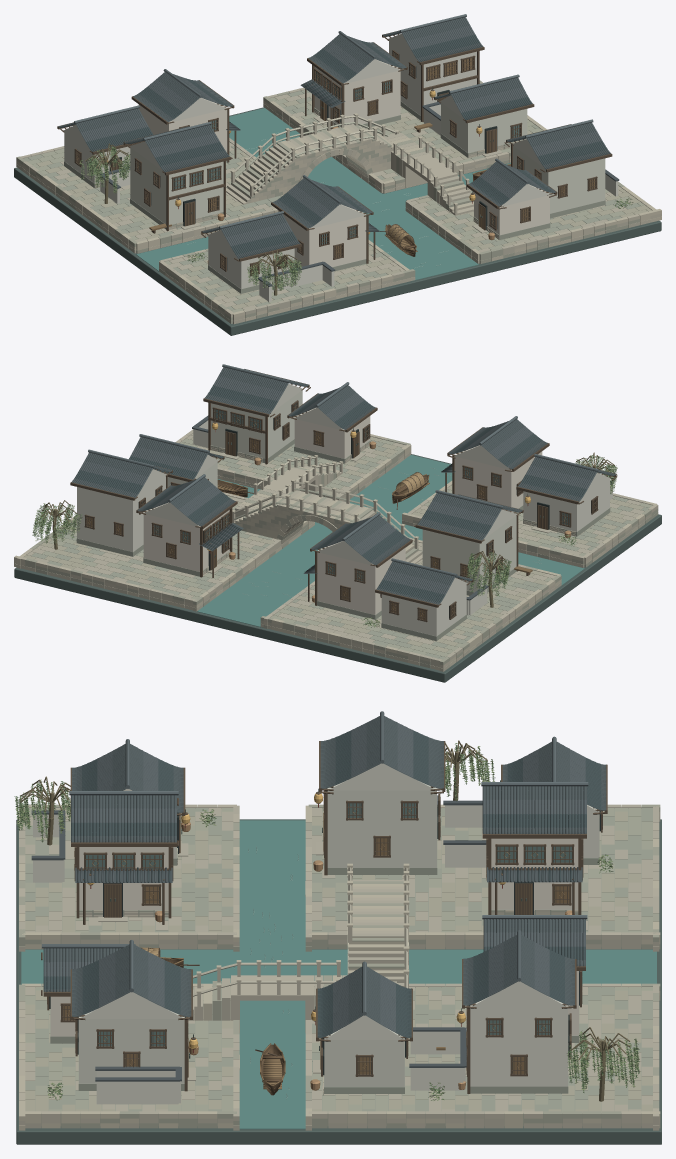
Rendered from zhouzhuang-double-bridge.glb.
3 views of the same model, one above another, from view 1: azimuth 30°, elevation 25°; view 2: azimuth 150°, elevation 25°; view 3: azimuth 270°, elevation 25° (orthographic). The views are drawn at different scales.
Parts seen in each view (by area): view 1: ZHOUZHUANG | architecture, ZHOUZHUANG | roof detail, ZHOUZHUANG | paving detail, ZHOUZHUANG | ground, ZHOUZHUANG | bridges, ZHOUZHUANG | water, ZHOUZHUANG | pedestal, ZHOUZHUANG | small detail, ZHOUZHUANG | planting, ZHOUZHUANG | boats; view 2: ZHOUZHUANG | architecture, ZHOUZHUANG | roof detail, ZHOUZHUANG | paving detail, ZHOUZHUANG | ground, ZHOUZHUANG | water, ZHOUZHUANG | pedestal, ZHOUZHUANG | bridges, ZHOUZHUANG | small detail, ZHOUZHUANG | planting, ZHOUZHUANG | boats; view 3: ZHOUZHUANG | architecture, ZHOUZHUANG | paving detail, ZHOUZHUANG | roof detail, ZHOUZHUANG | ground, ZHOUZHUANG | water, ZHOUZHUANG | pedestal, ZHOUZHUANG | bridges, ZHOUZHUANG | planting, ZHOUZHUANG | small detail, ZHOUZHUANG | boats.
Part boxes in pixels (x1,y1,x2,y2): ZHOUZHUANG | architecture: [57, 14, 619, 301]; ZHOUZHUANG | roof detail: [58, 17, 610, 258]; ZHOUZHUANG | paving detail: [23, 90, 651, 312]; ZHOUZHUANG | ground: [16, 80, 661, 324]; ZHOUZHUANG | bridges: [226, 113, 473, 215]; ZHOUZHUANG | water: [136, 108, 510, 281]; ZHOUZHUANG | pedestal: [14, 107, 661, 335]; ZHOUZHUANG | small detail: [75, 52, 596, 273]; ZHOUZHUANG | planting: [79, 143, 633, 295]; ZHOUZHUANG | boats: [379, 164, 510, 256]; ZHOUZHUANG | architecture: [70, 364, 617, 640]; ZHOUZHUANG | roof detail: [71, 367, 615, 604]; ZHOUZHUANG | paving detail: [24, 433, 652, 659]; ZHOUZHUANG | ground: [14, 429, 658, 671]; ZHOUZHUANG | water: [197, 455, 584, 627]; ZHOUZHUANG | pedestal: [14, 454, 661, 682]; ZHOUZHUANG | bridges: [232, 455, 422, 563]; ZHOUZHUANG | small detail: [85, 403, 597, 620]; ZHOUZHUANG | planting: [32, 452, 617, 627]; ZHOUZHUANG | boats: [217, 472, 429, 509]; ZHOUZHUANG | architecture: [31, 711, 607, 1104]; ZHOUZHUANG | paving detail: [25, 807, 652, 1113]; ZHOUZHUANG | roof detail: [43, 716, 606, 1037]; ZHOUZHUANG | ground: [19, 804, 660, 1130]; ZHOUZHUANG | water: [21, 820, 656, 1129]; ZHOUZHUANG | pedestal: [16, 819, 661, 1144]; ZHOUZHUANG | bridges: [188, 863, 409, 1032]; ZHOUZHUANG | planting: [14, 740, 640, 1101]; ZHOUZHUANG | small detail: [47, 780, 602, 1095]; ZHOUZHUANG | boats: [140, 947, 285, 1095].
Size of the model in its own units: 37.9 by 8.46 by 33.12.
